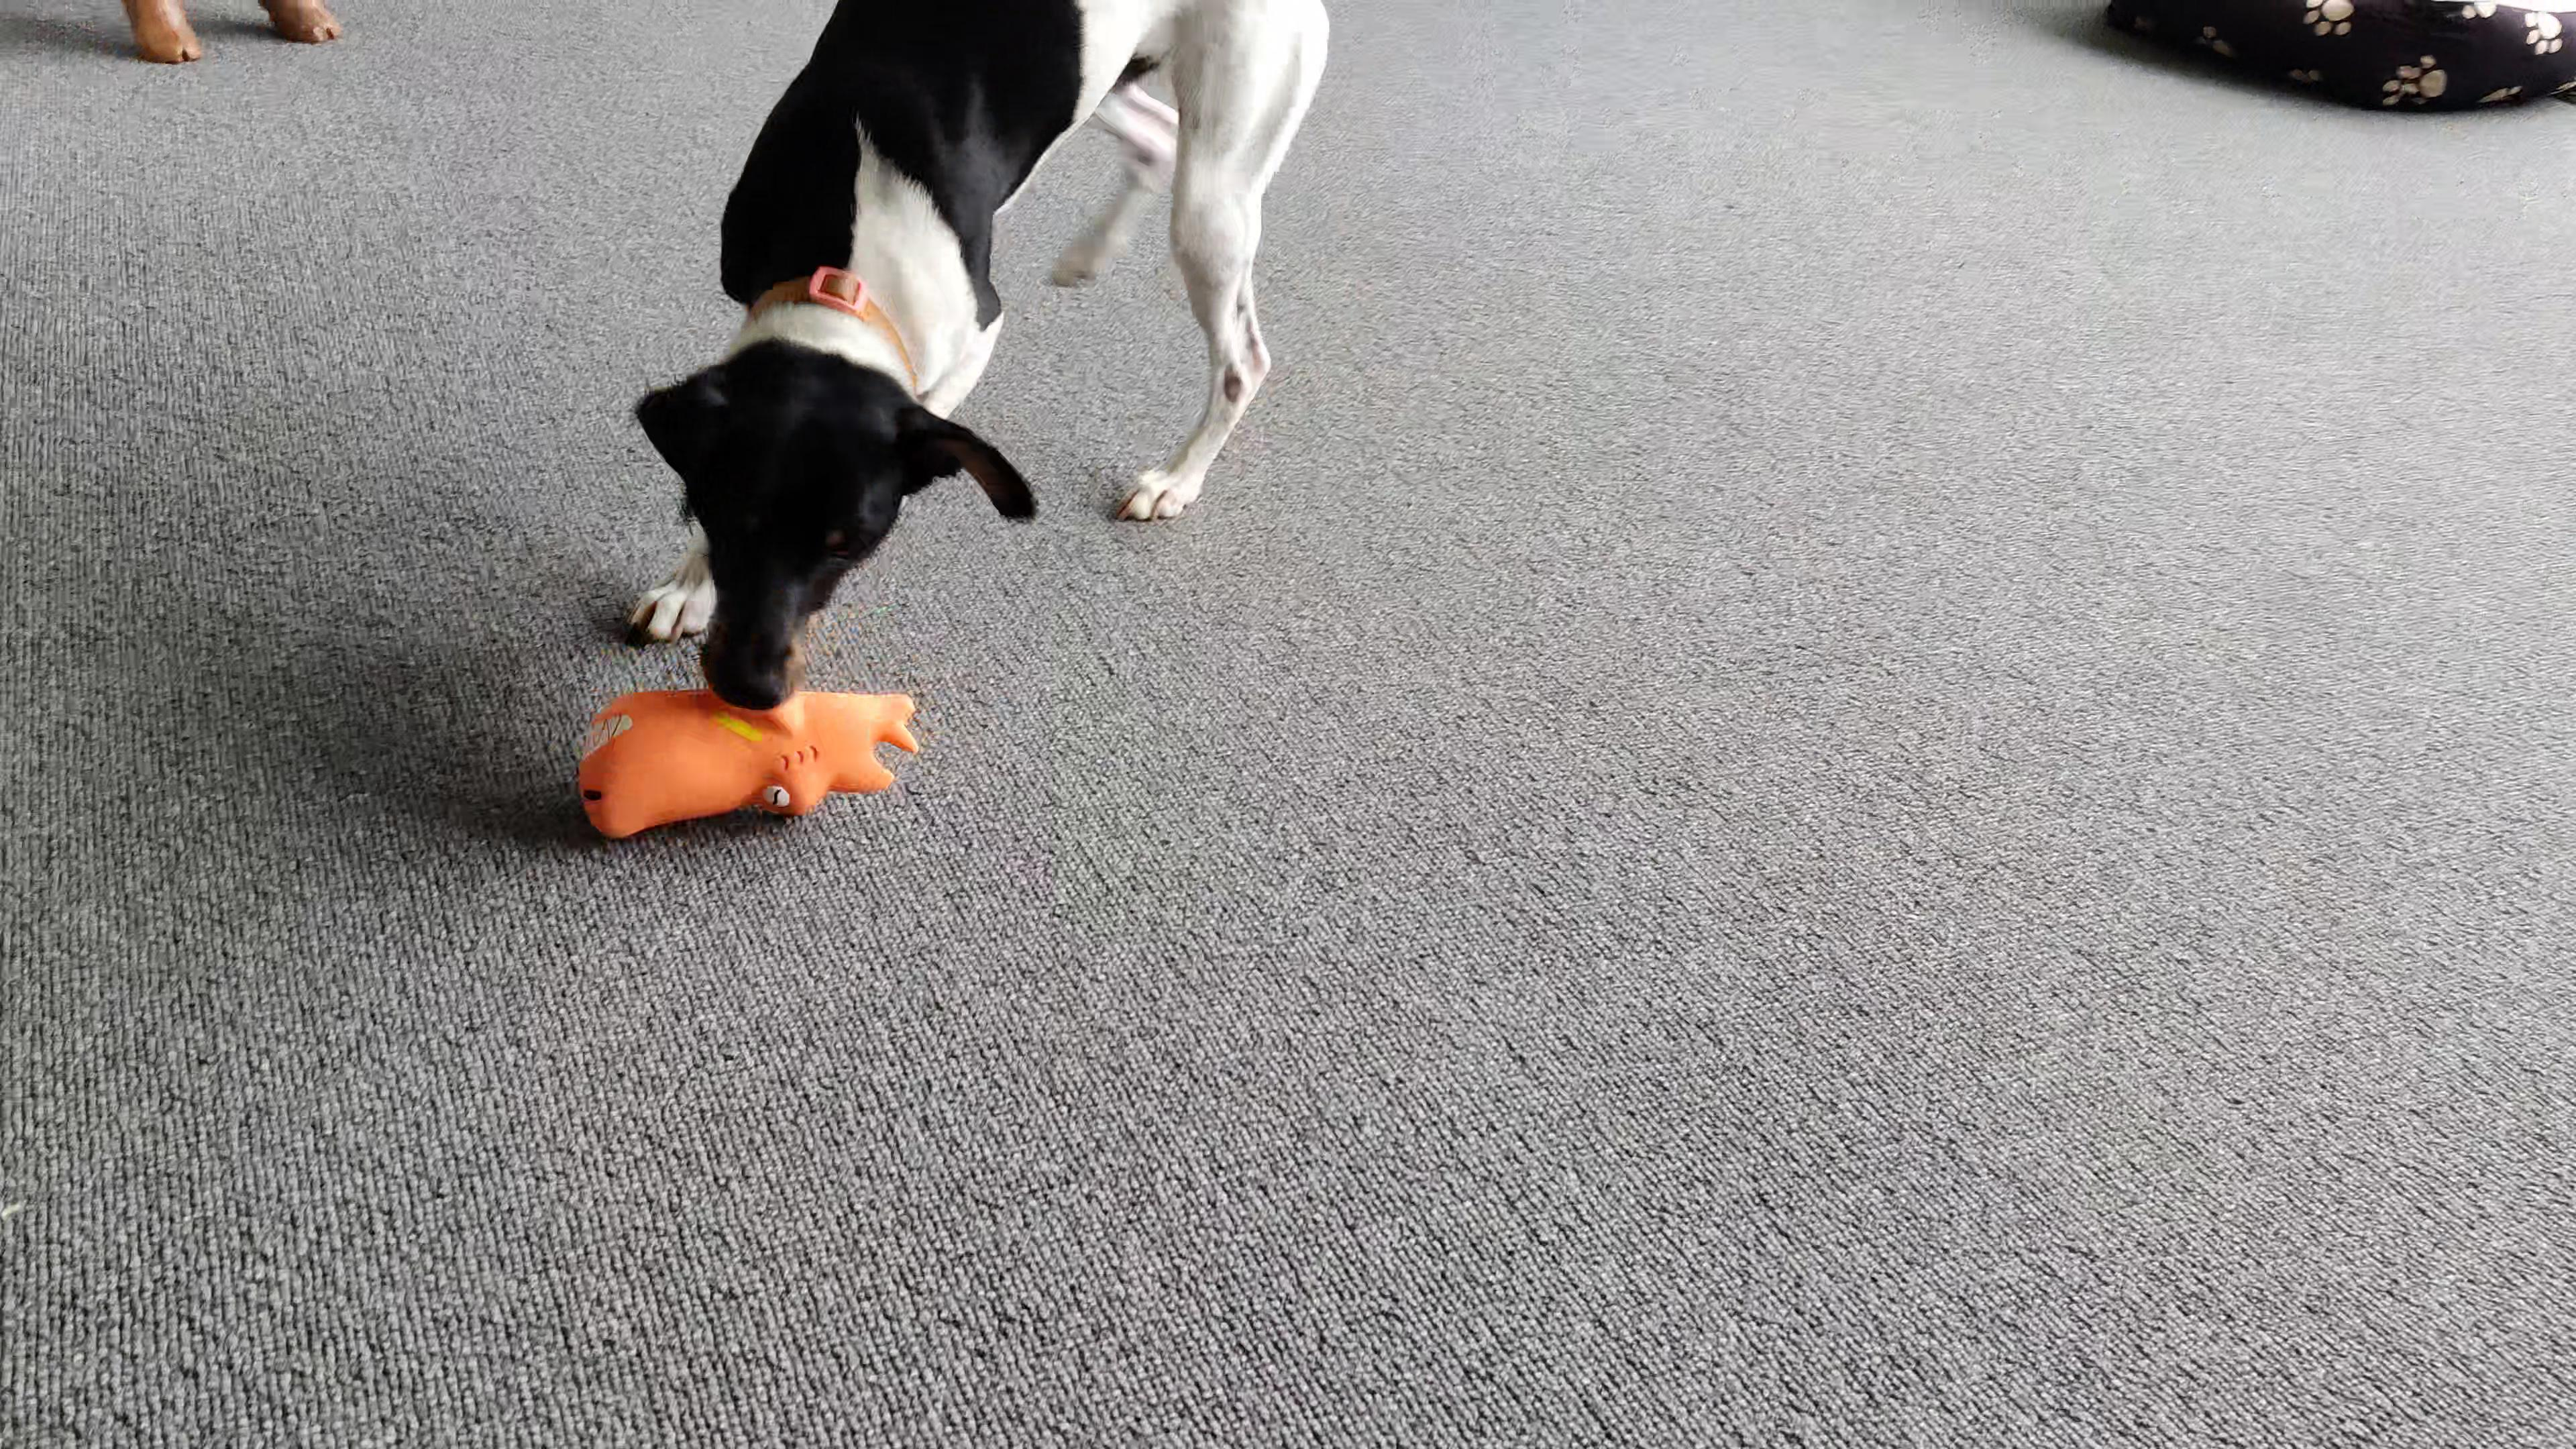Dog: (610, 0, 1339, 711)
